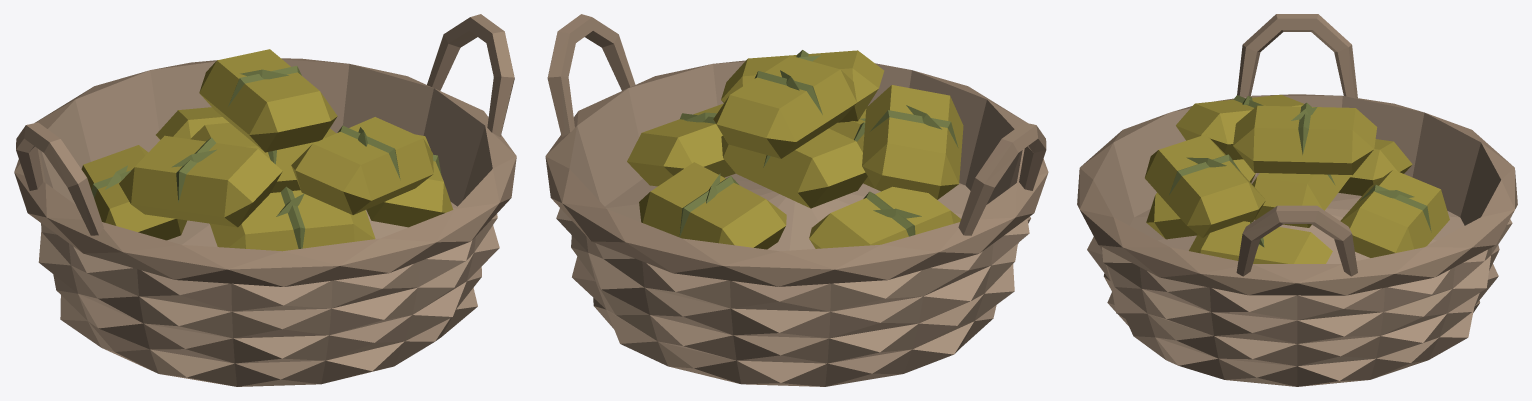
Rendered from basket-of-humitas-3cb716.glb.
3 renders of one model, left to right at view 1: azimuth 30°, elevation 25°; view 2: azimuth 150°, elevation 25°; view 3: azimuth 270°, elevation 25°, orthographic. The views are drawn at different scales.
Parts seen in each view (by area): view 1: basket, humitas-mesh; view 2: basket, humitas-mesh; view 3: basket, humitas-mesh.
Boxes of the visible parts, x1,y1,x2,y2 form: basket: (14, 14, 516, 386); humitas-mesh: (81, 49, 453, 251); basket: (545, 14, 1048, 386); humitas-mesh: (627, 50, 963, 249); basket: (1077, 14, 1517, 386); humitas-mesh: (1145, 94, 1449, 263).
Size of the model in its own units: 0.4855 by 0.2352 by 0.4518.
